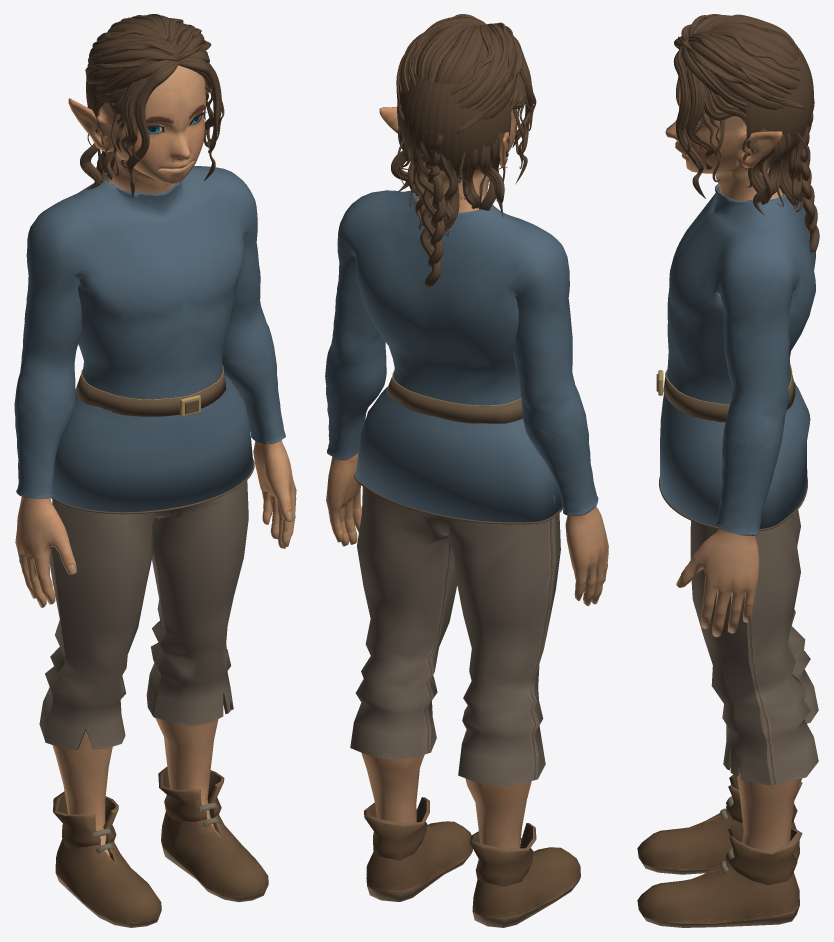
File: girl-athletic.glb
3 renders of one model, left to right at view 1: azimuth 30°, elevation 25°; view 2: azimuth 150°, elevation 25°; view 3: azimuth 270°, elevation 25°, orthographic.
Parts seen in each view (by area): view 1: sportive / sportive / girl / gentle / starter / fitted long-, sportive / sportive / girl / gentle / base / girl • Pant_043, sportive / sportive / girl / gentle / female / girl • contin, sportive / sportive / girl / gentle / starter / continuous w, sportive / sportive / girl / gentle / long / girl / long / g, sportive / sportive / girl / gentle / starter / flat fitted ; view 2: sportive / sportive / girl / gentle / base / girl • Pant_043, sportive / sportive / girl / gentle / starter / fitted long-, sportive / sportive / girl / gentle / starter / continuous w, sportive / sportive / girl / gentle / long / girl / long / g, sportive / sportive / girl / gentle / female / girl • contin, sportive / sportive / girl / filled posterior hair, sportive / sportive / girl / gentle / starter / flat fitted , sportive / sportive / girl / gentle / starter / bound hem.00; view 3: sportive / sportive / girl / gentle / base / girl • Pant_043, sportive / sportive / girl / gentle / starter / fitted long-, sportive / sportive / girl / gentle / long / girl / long / g, sportive / sportive / girl / gentle / female / girl • contin, sportive / sportive / girl / gentle / starter / continuous w, sportive / sportive / girl / filled posterior hair, sportive / sportive / girl / gentle / starter / flat fitted .
Boxes of the visible parts, x1,y1,x2,y2 form: sportive / sportive / girl / gentle / starter / fitted long-: (14,166,285,498); sportive / sportive / girl / gentle / base / girl • Pant_043: (39,480,268,927); sportive / sportive / girl / gentle / female / girl • contin: (15,65,296,855); sportive / sportive / girl / gentle / starter / continuous w: (53,374,253,512); sportive / sportive / girl / gentle / long / girl / long / g: (80,14,224,198); sportive / sportive / girl / gentle / starter / flat fitted : (75,366,226,416); sportive / sportive / girl / gentle / base / girl • Pant_043: (350,486,580,927); sportive / sportive / girl / gentle / starter / fitted long-: (325,190,598,515); sportive / sportive / girl / gentle / starter / continuous w: (355,387,562,522); sportive / sportive / girl / gentle / long / girl / long / g: (391,14,536,287); sportive / sportive / girl / gentle / female / girl • contin: (326,106,608,848); sportive / sportive / girl / filled posterior hair: (397,73,511,171); sportive / sportive / girl / gentle / starter / flat fitted : (386,372,522,423); sportive / sportive / girl / gentle / starter / bound hem.00: (354,473,562,524); sportive / sportive / girl / gentle / base / girl • Pant_043: (637,509,818,927); sportive / sportive / girl / gentle / starter / fitted long-: (667,184,815,535); sportive / sportive / girl / gentle / long / girl / long / g: (673,14,819,252); sportive / sportive / girl / gentle / female / girl • contin: (665,84,801,851); sportive / sportive / girl / gentle / starter / continuous w: (660,381,810,528); sportive / sportive / girl / filled posterior hair: (746,46,813,158); sportive / sportive / girl / gentle / starter / flat fitted : (663,365,795,422).
Bounding box in the file's own units: 0.5778 × 1.77 × 0.3378.
17 materials, 8 textured.
